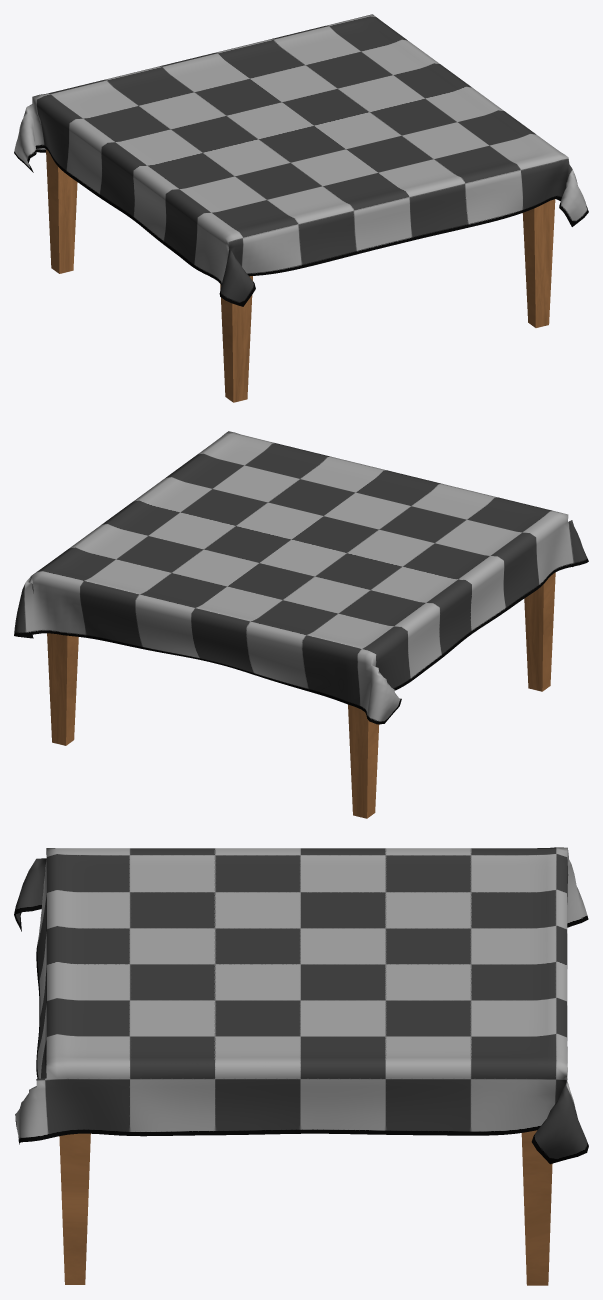
Rendered from coffee_table.fbx.
3 renders of one model, top to bottom at view 1: azimuth 30°, elevation 25°; view 2: azimuth 150°, elevation 25°; view 3: azimuth 270°, elevation 25°, orthographic. The views are drawn at different scales.
Parts seen in each view (by area): view 1: Plane.003, Cube.002; view 2: Plane.003, Cube.002; view 3: Plane.003, Cube.002.
Boxes of the visible parts, <box> form: Plane.003: <box>14,14,588,306</box>; Cube.002: <box>46,149,555,402</box>; Plane.003: <box>14,431,588,724</box>; Cube.002: <box>47,572,555,818</box>; Plane.003: <box>14,847,588,1164</box>; Cube.002: <box>59,1130,552,1285</box>.
Size of the model in its own units: 1008 by 445 by 1011.
2 materials, 2 textured.
